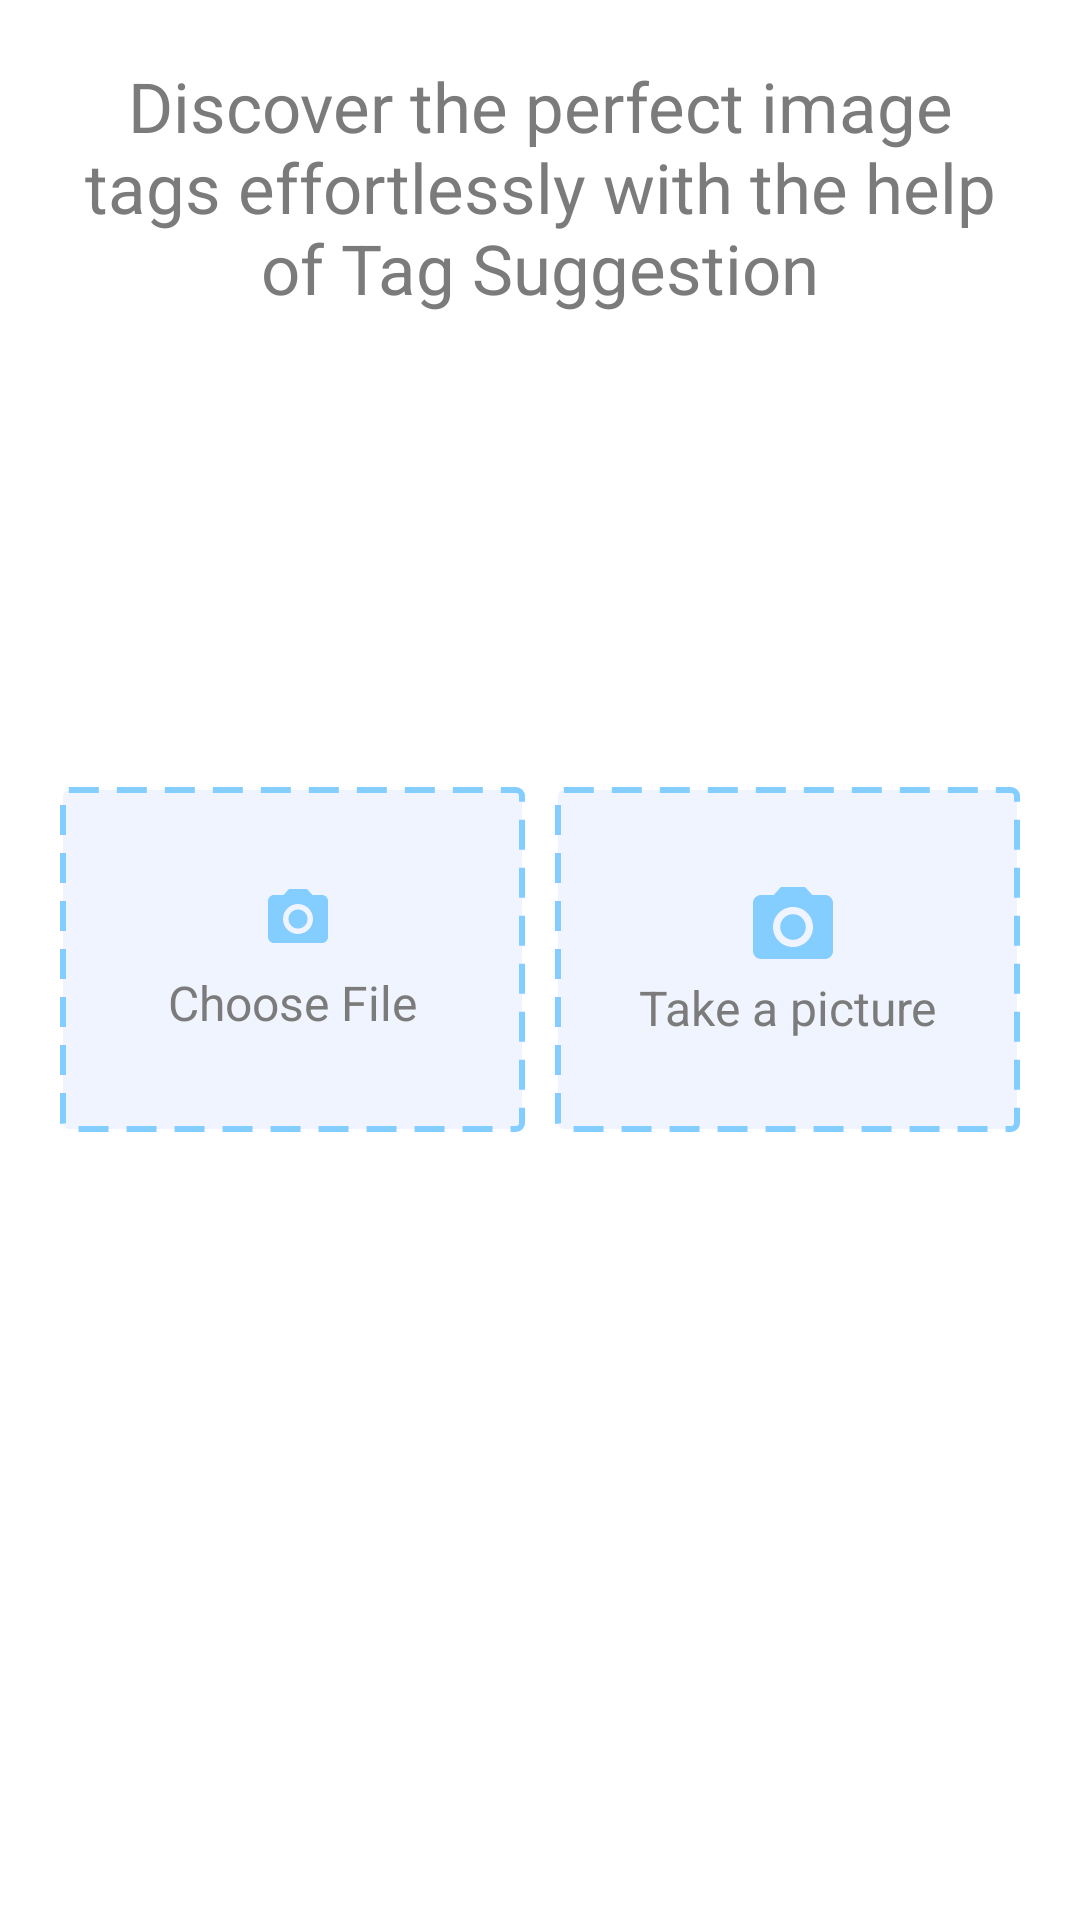

Named icons in this screenshot (1080 × 1920) and their bounding boxes, (x1, y1, x2, y2):
camera: (753, 887, 833, 959), (268, 889, 328, 943)
